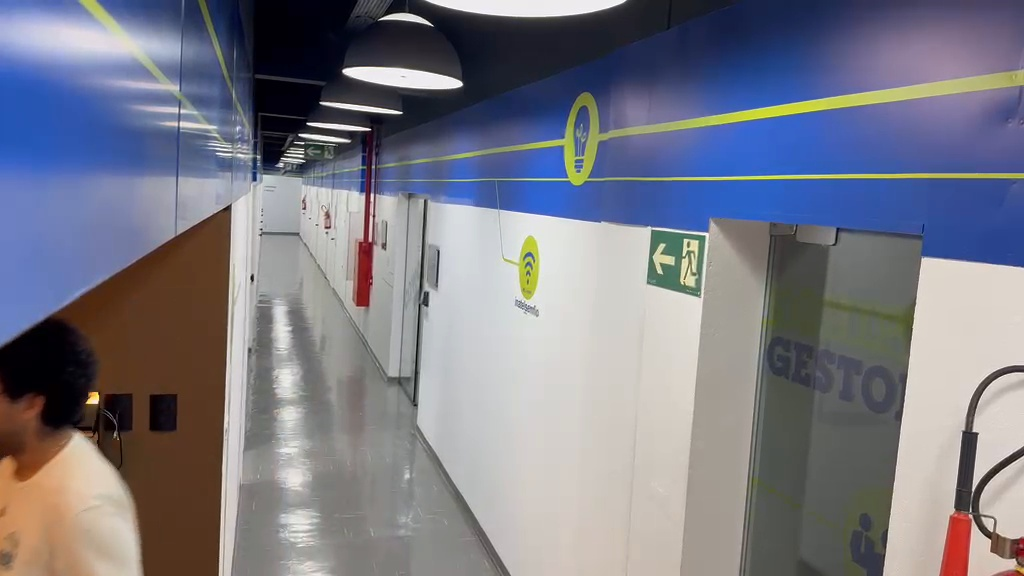person: (1, 317, 145, 572)
